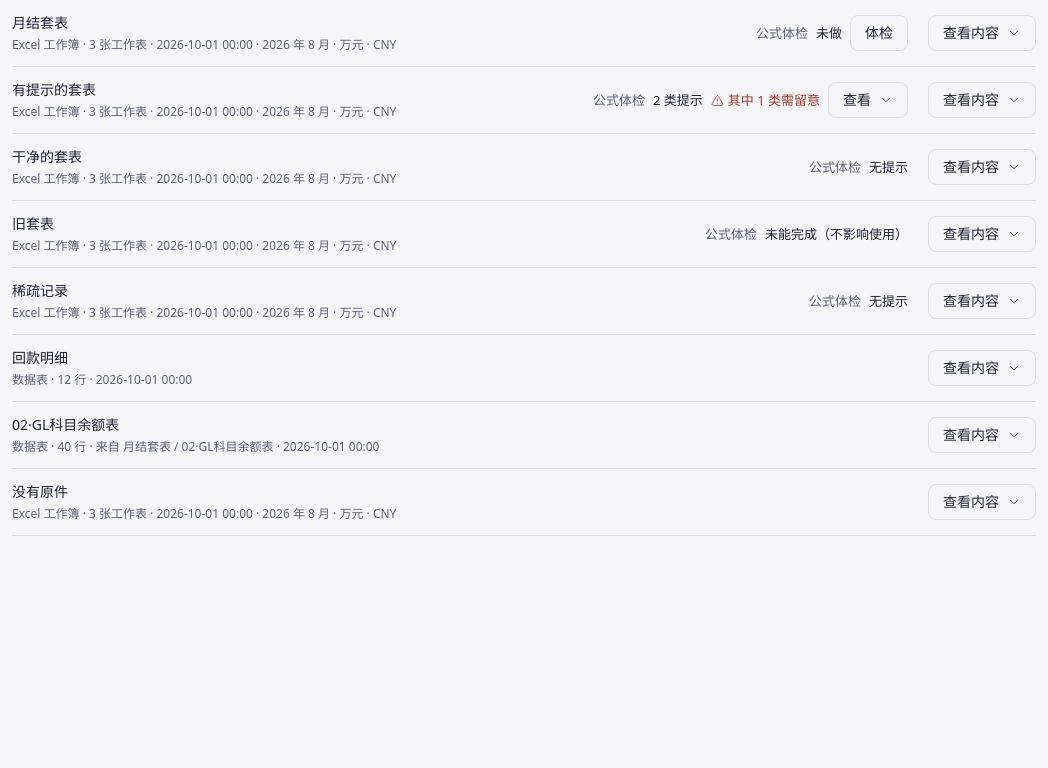
it: the 资料 file list › shows each formula health state in words, none of them only in a title
Check: the text "未做" is shown, box [816,23,842,43]
Check: the button with aria-label "体检这本工作簿：月结套表" reads "体检", box [850,15,908,51]
Click the button with aria-label "查看公式体检提示：有提示的套表" at (868, 100), box [828,82,908,118]
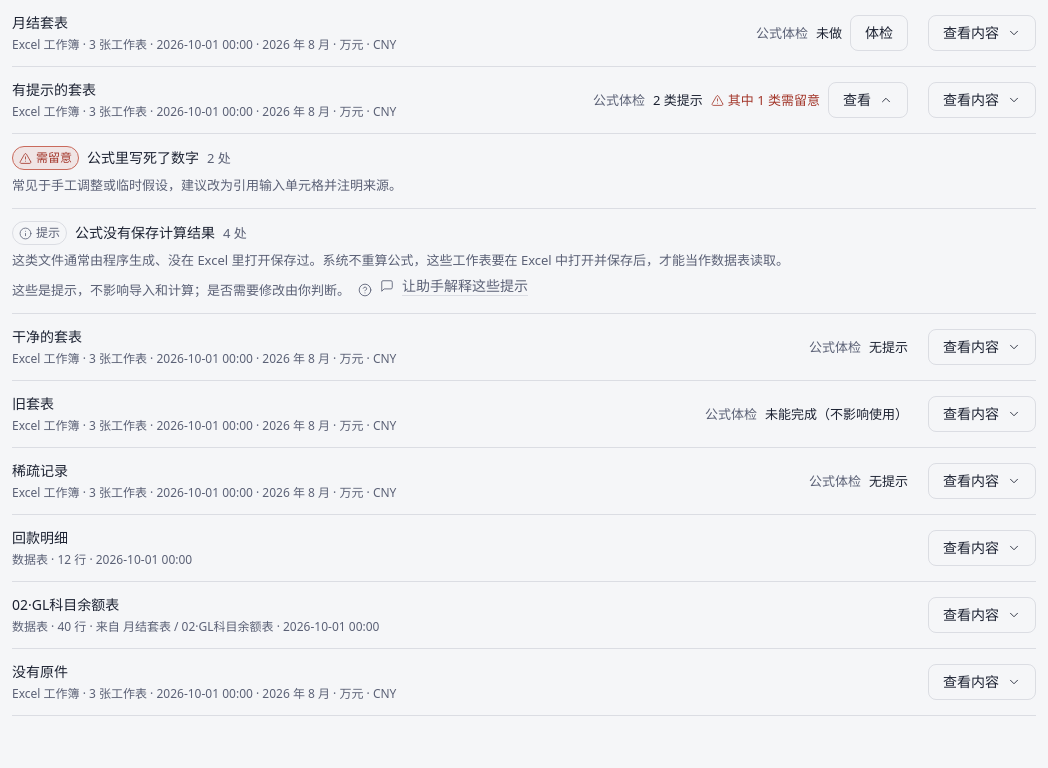
Check: the text "这些是提示，不影响导入和计算；是否需要修改由你判断。 让助手解释这些提示" is shown, box [12,279,528,301]
Check: the number of buttons named "使用指南：工作簿公式体检" is 1, box [354,279,376,301]
